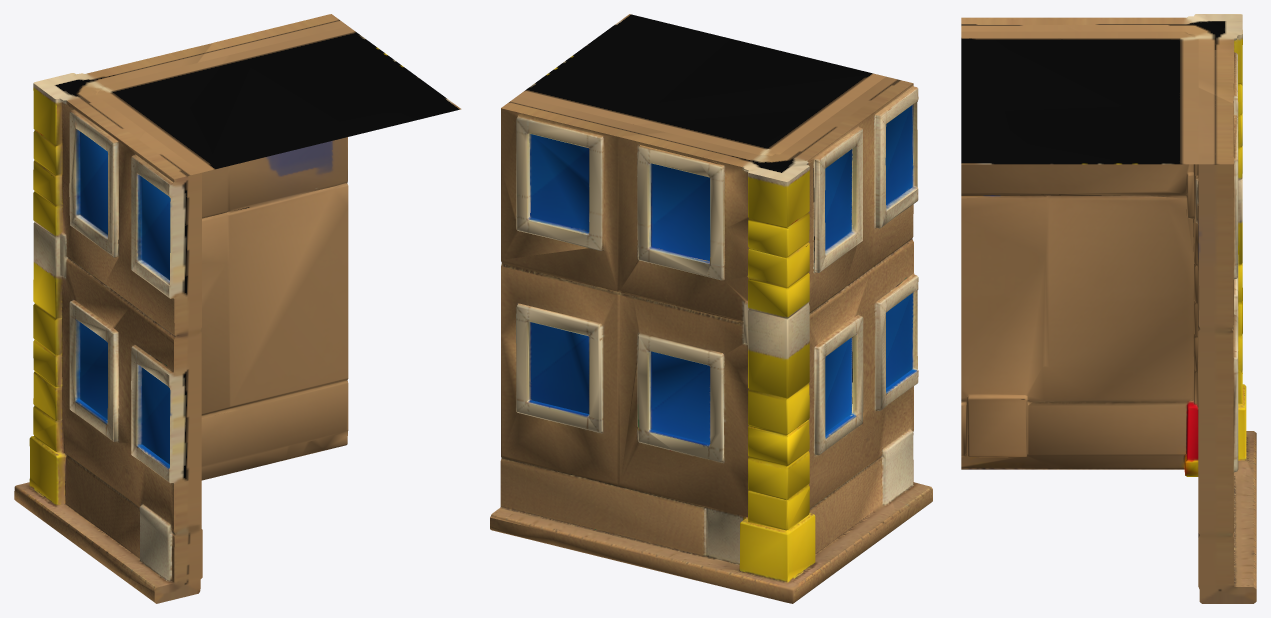
The model's file is 3-ground-floor-back-left.fbx.
3 renders of one model, left to right at view 1: azimuth 30°, elevation 25°; view 2: azimuth 150°, elevation 25°; view 3: azimuth 270°, elevation 25°, orthographic. The views are drawn at different scales.
Parts seen in each view (by area): view 1: ground-floor-back-left; view 2: ground-floor-back-left; view 3: ground-floor-back-left.
Boxes of the visible parts, left/top/right/bottom form: ground-floor-back-left: left=14, top=14, right=461, bottom=603; ground-floor-back-left: left=490, top=14, right=932, bottom=603; ground-floor-back-left: left=961, top=14, right=1256, bottom=603.
Size of the model in its own units: 6746 by 8821 by 5374.
1 material, 1 textured.
